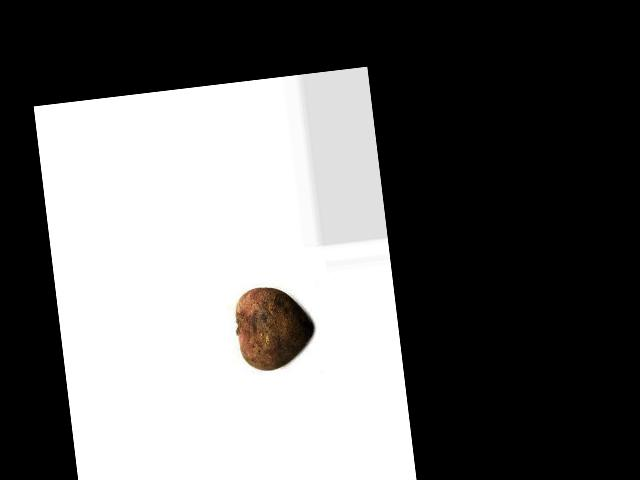beet: (232, 281, 317, 373)
